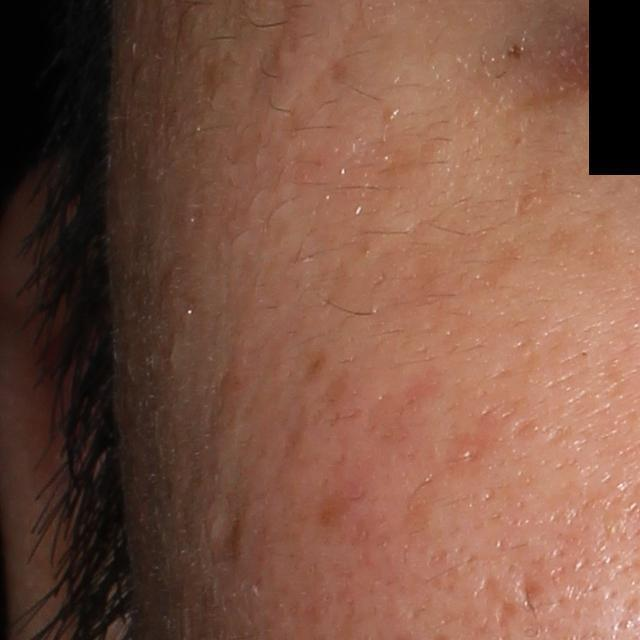atrophic_scar: (472, 575, 521, 631), (436, 425, 490, 474), (203, 504, 243, 560), (515, 570, 544, 610)
melasma: (549, 206, 622, 283), (477, 239, 524, 298), (510, 170, 559, 226)
nevus: (504, 43, 521, 64)
